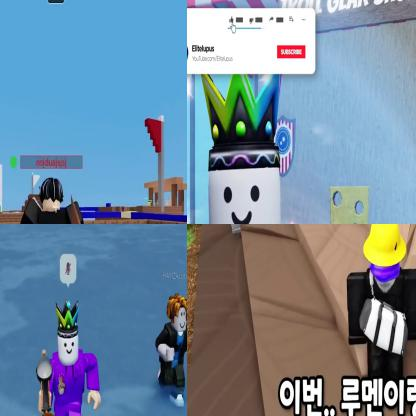Roblox-Avatar: (188, 74, 358, 224), (347, 225, 416, 377), (38, 298, 102, 416), (156, 293, 187, 409), (21, 178, 86, 224)
